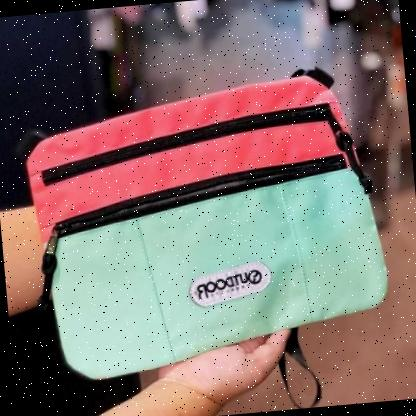bag: (10, 57, 394, 394)
